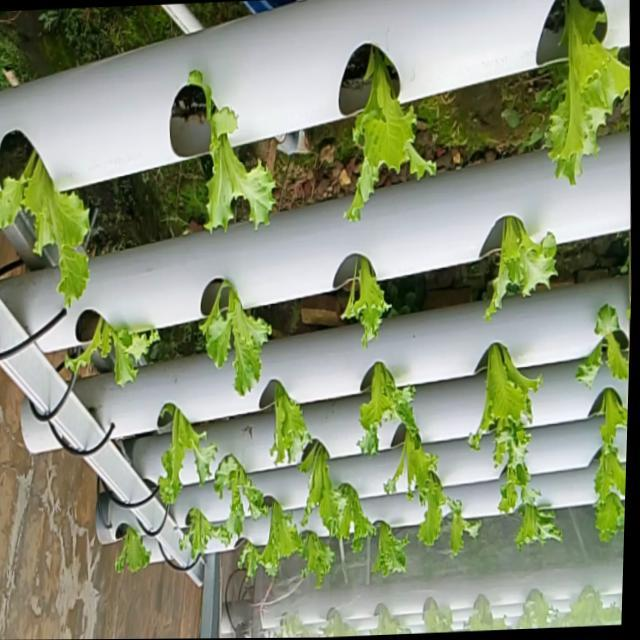Baby: (344, 38, 434, 213), (545, 0, 629, 176), (0, 140, 89, 297), (187, 61, 273, 223), (199, 276, 270, 391), (382, 421, 459, 521), (483, 211, 554, 316), (60, 314, 158, 384), (296, 436, 359, 536), (156, 399, 216, 500), (359, 490, 422, 583), (475, 339, 535, 431), (237, 497, 300, 577), (212, 449, 267, 540), (573, 301, 626, 385), (341, 252, 389, 342), (486, 394, 530, 491), (358, 358, 400, 450), (268, 376, 310, 460), (177, 505, 229, 562), (592, 445, 625, 534), (438, 496, 480, 556), (514, 502, 561, 549), (297, 529, 333, 587), (113, 527, 150, 572)
